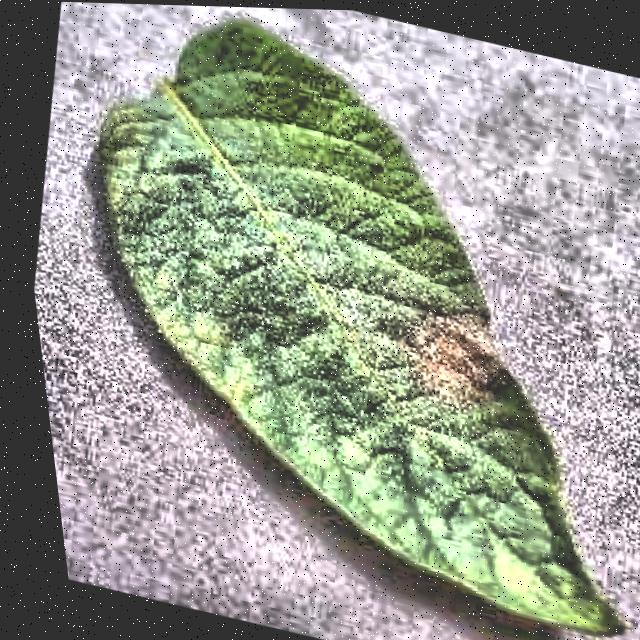Potato_leaf_late_blight: (70, 7, 640, 640)
